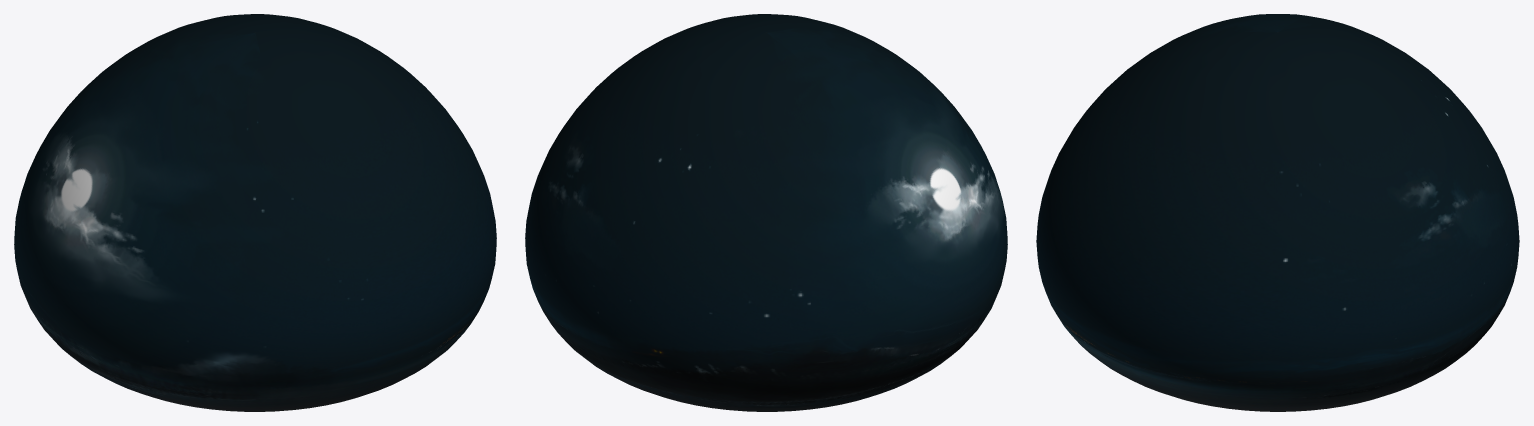
File: SkySphereDome.fbx
3 views of the same model, side by side, from view 1: azimuth 30°, elevation 25°; view 2: azimuth 150°, elevation 25°; view 3: azimuth 270°, elevation 25° (orthographic).
Visible parts, largest first — view 1: SkySphereDome; view 2: SkySphereDome; view 3: SkySphereDome.
Boxes of the visible parts, box(x1,y1,x2,y2) form: SkySphereDome: box(14, 14, 496, 411); SkySphereDome: box(525, 14, 1007, 411); SkySphereDome: box(1036, 14, 1519, 411).
Size of the model in its own units: 15363 by 15363 by 11447.
